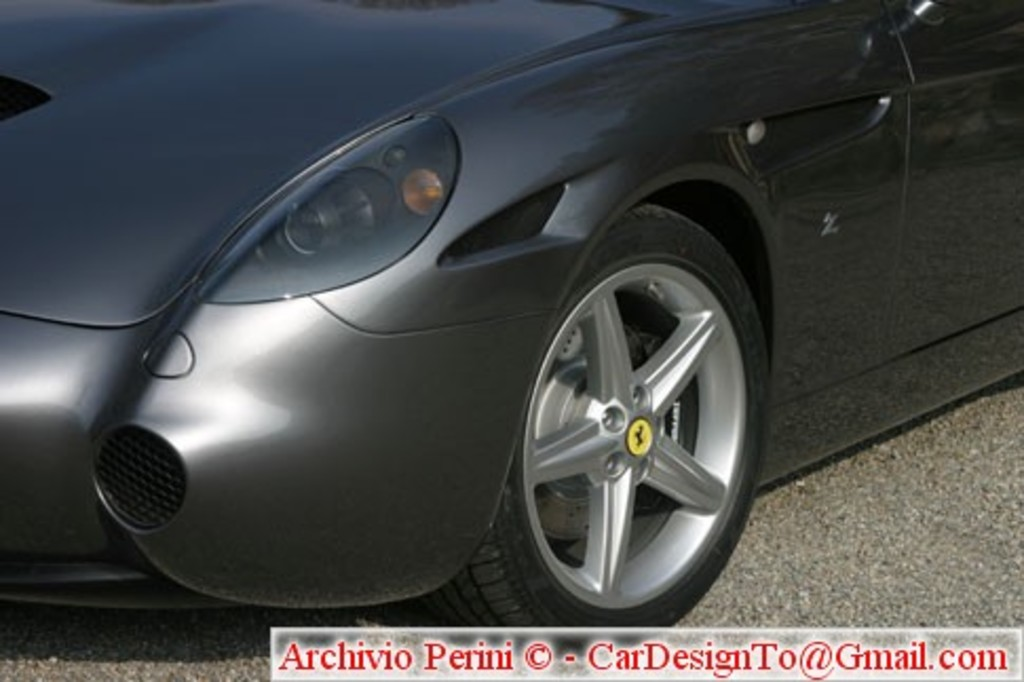Car: (0, 0, 1021, 658)
